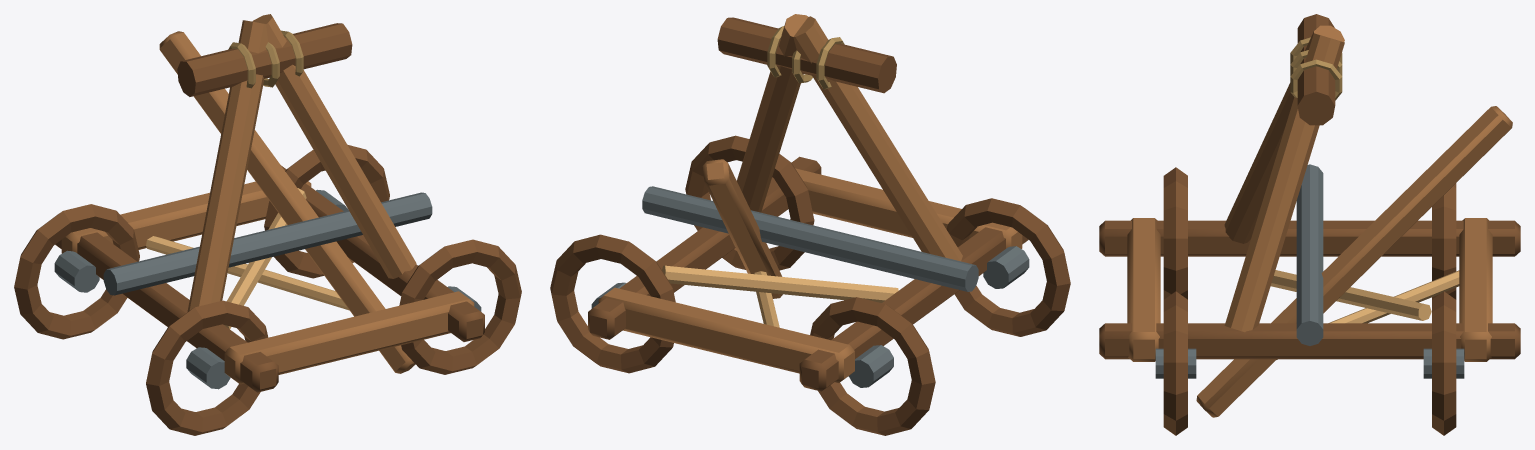
The model's file is catapult_destroyed.glb.
3 views of the same model, side by side, from view 1: azimuth 30°, elevation 25°; view 2: azimuth 150°, elevation 25°; view 3: azimuth 270°, elevation 25° (orthographic). The views are drawn at different scales.
Visible parts, largest first — view 1: DestroyedCatapult_CrossFront, DestroyedCatapult_SupportL, DestroyedCatapult_SupportR, DestroyedCatapult_BrokenArm, DestroyedCatapult_Axle, DestroyedCatapult_Wheel_1, DestroyedCatapult_Wheel_2, DestroyedCatapult_Wheel_0, DestroyedCatapult_FrameLeft, DestroyedCatapult_TopBar, DestroyedCatapult_CrossRear, DestroyedCatapult_FrameRight (+5 smaller); view 2: DestroyedCatapult_CrossRear, DestroyedCatapult_Axle, DestroyedCatapult_SupportL, DestroyedCatapult_Wheel_3, DestroyedCatapult_Wheel_2, DestroyedCatapult_Wheel_0, DestroyedCatapult_FrameLeft, DestroyedCatapult_TopBar, DestroyedCatapult_SupportR, DestroyedCatapult_CrossFront, DestroyedCatapult_FrameRight, DestroyedCatapult_Wheel_1 (+6 smaller); view 3: DestroyedCatapult_FrameRight, DestroyedCatapult_BrokenArm, DestroyedCatapult_SupportR, DestroyedCatapult_FrameLeft, DestroyedCatapult_Axle, DestroyedCatapult_CrossFront, DestroyedCatapult_CrossRear, DestroyedCatapult_SupportL, DestroyedCatapult_Wheel_1, DestroyedCatapult_Wheel_3, DestroyedCatapult_Wheel_0, DestroyedCatapult_TopBar (+6 smaller).
Boxes of the visible parts, bbox=[...] form: DestroyedCatapult_CrossFront: bbox=[224, 291, 474, 384]; DestroyedCatapult_SupportL: bbox=[187, 20, 268, 311]; DestroyedCatapult_SupportR: bbox=[252, 14, 416, 278]; DestroyedCatapult_BrokenArm: bbox=[159, 31, 415, 373]; DestroyedCatapult_Axle: bbox=[103, 192, 432, 295]; DestroyedCatapult_Wheel_1: bbox=[399, 239, 521, 374]; DestroyedCatapult_Wheel_2: bbox=[14, 204, 139, 339]; DestroyedCatapult_Wheel_0: bbox=[146, 300, 268, 435]; DestroyedCatapult_FrameLeft: bbox=[55, 232, 278, 392]; DestroyedCatapult_TopBar: bbox=[177, 23, 352, 96]; DestroyedCatapult_CrossRear: bbox=[61, 181, 311, 253]; DestroyedCatapult_FrameRight: bbox=[281, 165, 484, 341]; DestroyedCatapult_CrossRear: bbox=[598, 287, 854, 382]; DestroyedCatapult_Axle: bbox=[642, 186, 978, 291]; DestroyedCatapult_SupportL: bbox=[793, 16, 962, 261]; DestroyedCatapult_Wheel_3: bbox=[550, 234, 675, 373]; DestroyedCatapult_Wheel_2: bbox=[810, 297, 935, 435]; DestroyedCatapult_Wheel_0: bbox=[946, 198, 1070, 336]; DestroyedCatapult_FrameLeft: bbox=[799, 227, 1028, 391]; DestroyedCatapult_TopBar: bbox=[717, 17, 896, 93]; DestroyedCatapult_SupportR: bbox=[737, 14, 807, 212]; DestroyedCatapult_CrossFront: bbox=[795, 168, 1022, 248]; DestroyedCatapult_FrameRight: bbox=[588, 156, 821, 339]; DestroyedCatapult_Wheel_1: bbox=[685, 135, 814, 270]; DestroyedCatapult_FrameRight: bbox=[1099, 323, 1520, 359]; DestroyedCatapult_BrokenArm: bbox=[1196, 106, 1512, 417]; DestroyedCatapult_SupportR: bbox=[1224, 33, 1344, 332]; DestroyedCatapult_FrameLeft: bbox=[1099, 220, 1520, 256]; DestroyedCatapult_Axle: bbox=[1296, 164, 1323, 345]; DestroyedCatapult_CrossFront: bbox=[1127, 218, 1160, 361]; DestroyedCatapult_CrossRear: bbox=[1459, 218, 1492, 361]; DestroyedCatapult_SupportL: bbox=[1224, 25, 1344, 243]; DestroyedCatapult_Wheel_1: bbox=[1163, 291, 1187, 435]; DestroyedCatapult_Wheel_3: bbox=[1432, 291, 1456, 435]; DestroyedCatapult_Wheel_0: bbox=[1163, 167, 1187, 299]; DestroyedCatapult_TopBar: bbox=[1297, 14, 1335, 125].
Bounding box in the file's own units: 3.46 × 2.95 × 3.3.
